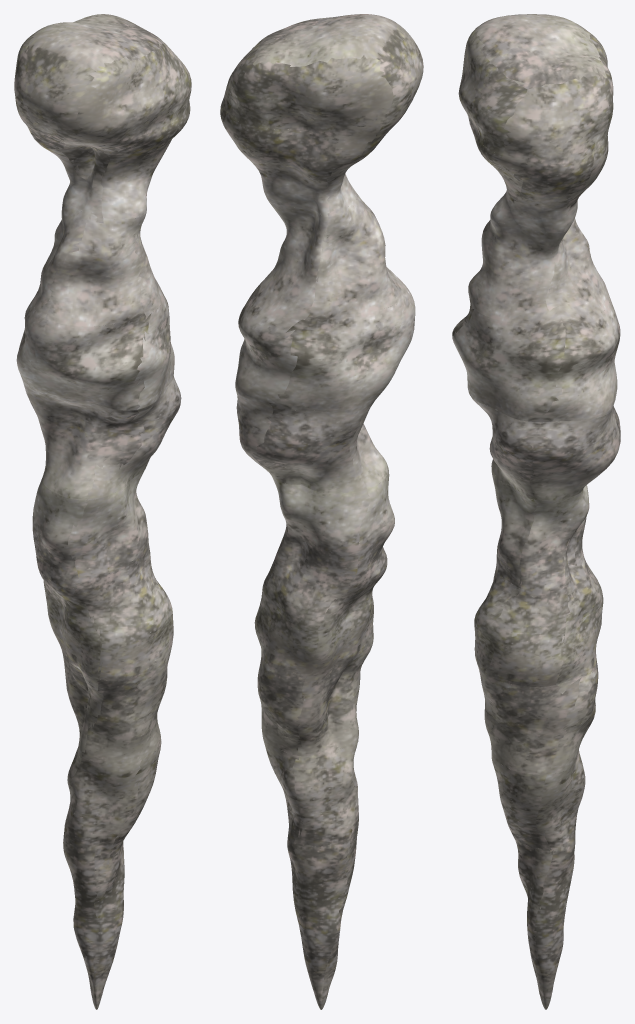
The model's file is Stag6.fbx.
3 views of the same model, side by side, from view 1: azimuth 30°, elevation 25°; view 2: azimuth 150°, elevation 25°; view 3: azimuth 270°, elevation 25° (orthographic).
Parts seen in each view (by area): view 1: Cube.004; view 2: Cube.004; view 3: Cube.004.
Part boxes in pixels (x1,y1,x2,y2): Cube.004: [14, 14, 191, 1009]; Cube.004: [220, 14, 423, 1009]; Cube.004: [452, 14, 620, 1009].
Size of the model in its own units: 266 by 1453 by 228.
1 material, 1 textured.
